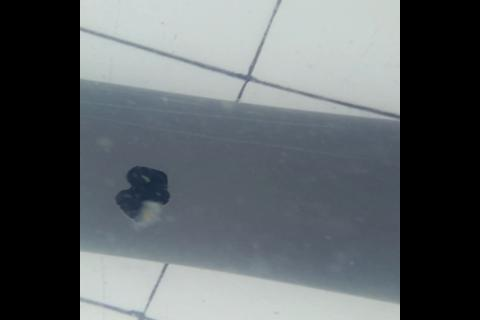kebocoran: (114, 161, 172, 222)
